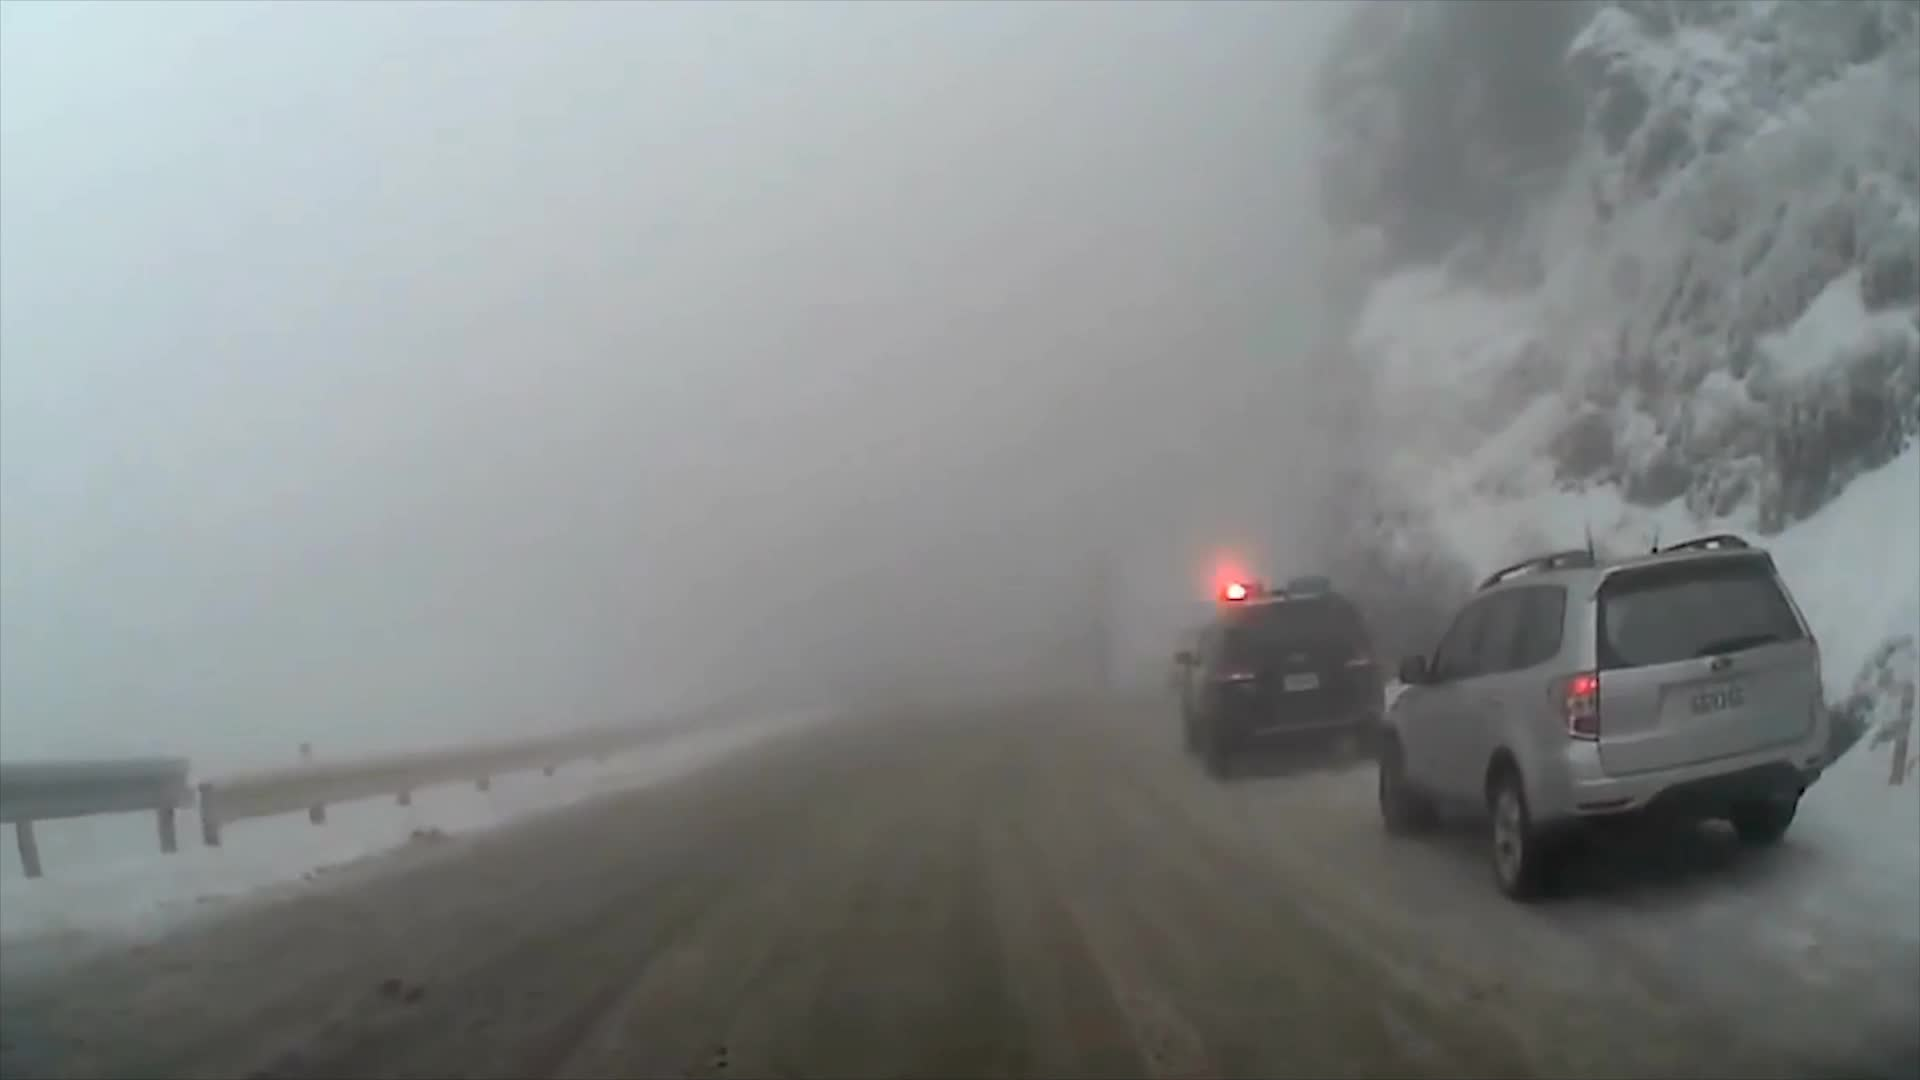vehicle: (1374, 531, 1830, 901), (1167, 574, 1381, 781)
